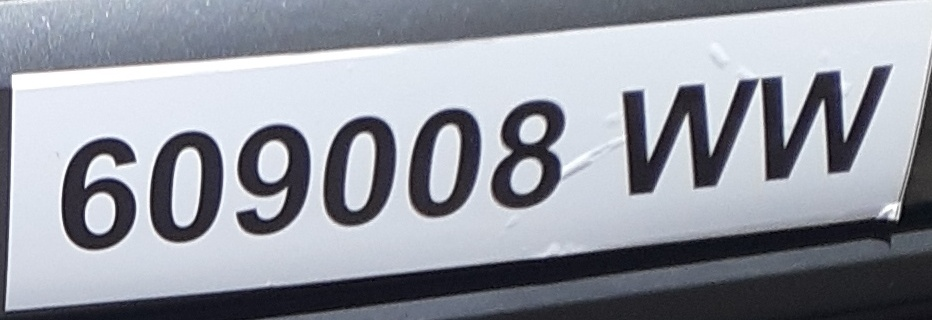0: (143, 126, 232, 249), (318, 107, 403, 232), (401, 104, 484, 223)
6: (52, 132, 144, 253)
8: (484, 88, 573, 216)
9: (224, 118, 322, 238)
w: (749, 60, 900, 190), (613, 71, 755, 205)
